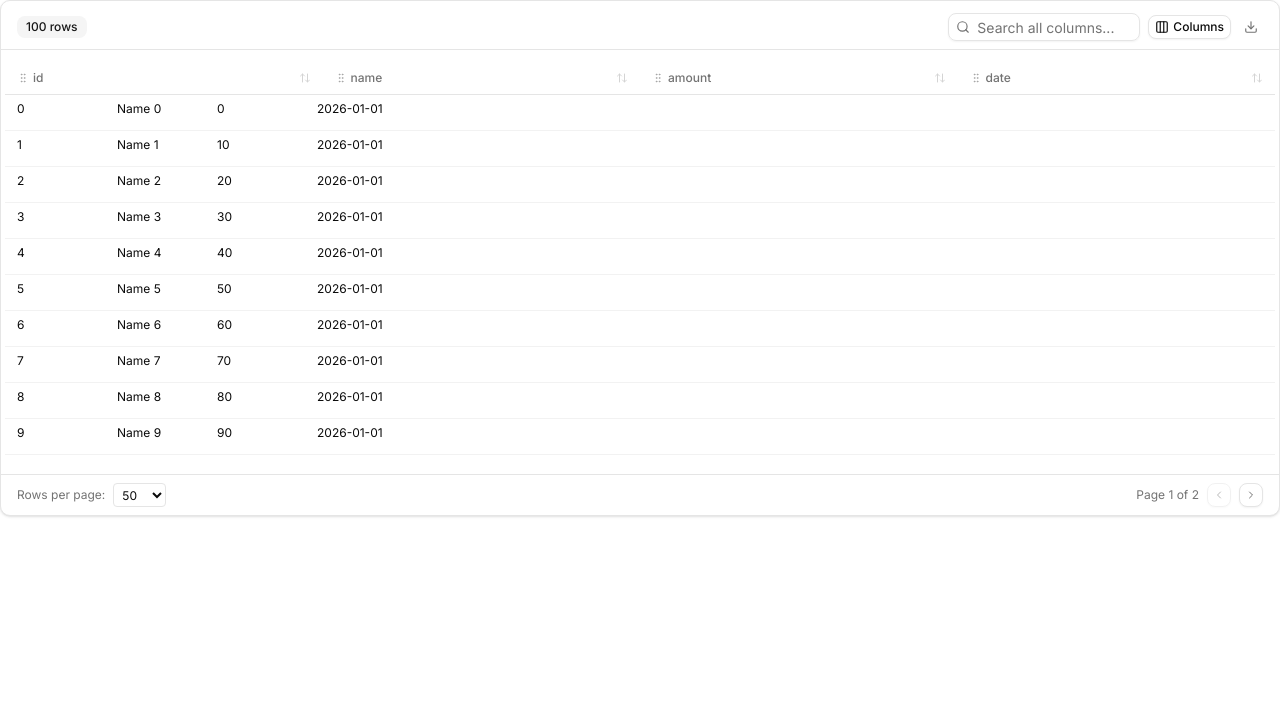
Test: DataTable › paginates with page size selector
expect the element with test id "table-pagination" shows "Page 1 of 2": met, box [1,474,1279,515]
Change page size to 25
Select "25" in the dropdown with test id "page-size-select" at (140, 495), box [113,483,166,507]
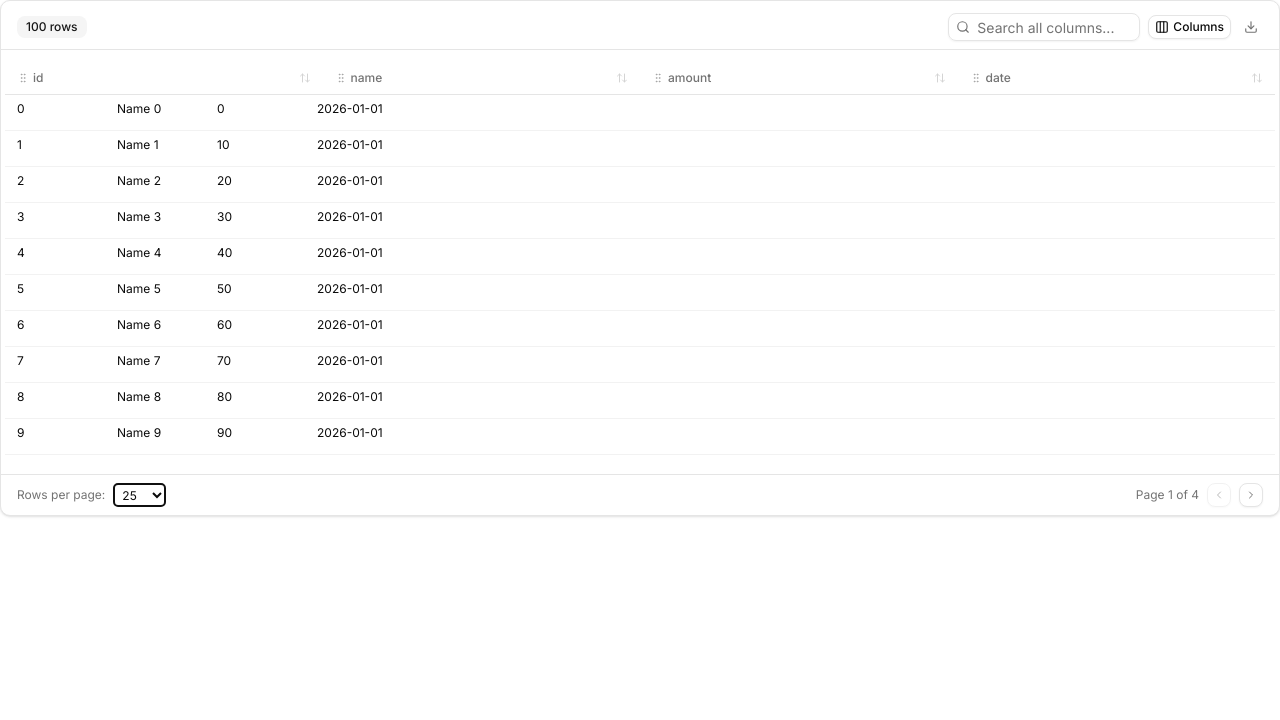
expect the element with test id "table-pagination" shows "Page 1 of 4": met, box [1,474,1279,515]
